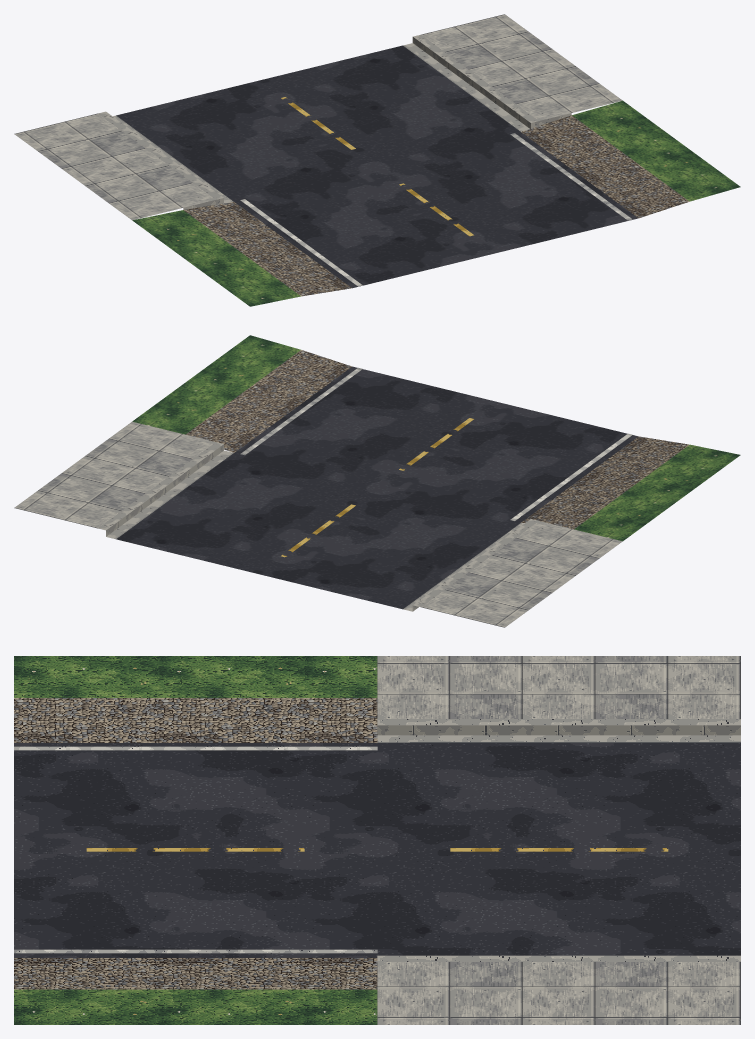
File: RD_Transition_UrbanToRural_10m.obj
3 views of the same model, one above another, from view 1: azimuth 30°, elevation 25°; view 2: azimuth 150°, elevation 25°; view 3: azimuth 270°, elevation 25° (orthographic). The views are drawn at different scales.
Visible parts, largest first — view 1: RD_Transition_UrbanToRural_10m_Mesh_M_Road_Asphalt, RD_Transition_UrbanToRural_10m_Mesh_M_Road_SidewalkConcrete, RD_Transition_UrbanToRural_10m_Mesh_M_Road_Gravel, RD_Transition_UrbanToRural_10m_Mesh_M_Grnd_GrassOvergrown, RD_Transition_UrbanToRural_10m_Mesh_M_Road_CurbConcrete, RD_Transition_UrbanToRural_10m_Mesh_M_Road_MarkingWhite, RD_Transition_UrbanToRural_10m_Mesh_M_Road_MarkingYellow; view 2: RD_Transition_UrbanToRural_10m_Mesh_M_Road_Asphalt, RD_Transition_UrbanToRural_10m_Mesh_M_Road_SidewalkConcrete, RD_Transition_UrbanToRural_10m_Mesh_M_Grnd_GrassOvergrown, RD_Transition_UrbanToRural_10m_Mesh_M_Road_Gravel, RD_Transition_UrbanToRural_10m_Mesh_M_Road_CurbConcrete, RD_Transition_UrbanToRural_10m_Mesh_M_Road_MarkingWhite, RD_Transition_UrbanToRural_10m_Mesh_M_Road_MarkingYellow; view 3: RD_Transition_UrbanToRural_10m_Mesh_M_Road_Asphalt, RD_Transition_UrbanToRural_10m_Mesh_M_Road_SidewalkConcrete, RD_Transition_UrbanToRural_10m_Mesh_M_Grnd_GrassOvergrown, RD_Transition_UrbanToRural_10m_Mesh_M_Road_Gravel, RD_Transition_UrbanToRural_10m_Mesh_M_Road_CurbConcrete, RD_Transition_UrbanToRural_10m_Mesh_M_Road_MarkingWhite, RD_Transition_UrbanToRural_10m_Mesh_M_Road_MarkingYellow.
Part boxes in pixels (x1,y1,x2,y2): RD_Transition_UrbanToRural_10m_Mesh_M_Road_Asphalt: (116, 45, 638, 288); RD_Transition_UrbanToRural_10m_Mesh_M_Road_SidewalkConcrete: (14, 14, 622, 220); RD_Transition_UrbanToRural_10m_Mesh_M_Road_Gravel: (183, 115, 689, 296); RD_Transition_UrbanToRural_10m_Mesh_M_Grnd_GrassOvergrown: (132, 100, 740, 306); RD_Transition_UrbanToRural_10m_Mesh_M_Road_CurbConcrete: (98, 34, 571, 209); RD_Transition_UrbanToRural_10m_Mesh_M_Road_MarkingWhite: (240, 133, 632, 286); RD_Transition_UrbanToRural_10m_Mesh_M_Road_MarkingYellow: (281, 97, 473, 236); RD_Transition_UrbanToRural_10m_Mesh_M_Road_Asphalt: (116, 366, 638, 609); RD_Transition_UrbanToRural_10m_Mesh_M_Road_SidewalkConcrete: (14, 421, 622, 627); RD_Transition_UrbanToRural_10m_Mesh_M_Grnd_GrassOvergrown: (132, 335, 740, 541); RD_Transition_UrbanToRural_10m_Mesh_M_Road_Gravel: (186, 350, 689, 529); RD_Transition_UrbanToRural_10m_Mesh_M_Road_CurbConcrete: (98, 442, 538, 611); RD_Transition_UrbanToRural_10m_Mesh_M_Road_MarkingWhite: (240, 367, 632, 520); RD_Transition_UrbanToRural_10m_Mesh_M_Road_MarkingYellow: (281, 418, 473, 557); RD_Transition_UrbanToRural_10m_Mesh_M_Road_Asphalt: (14, 743, 740, 957); RD_Transition_UrbanToRural_10m_Mesh_M_Road_SidewalkConcrete: (377, 656, 740, 1024); RD_Transition_UrbanToRural_10m_Mesh_M_Grnd_GrassOvergrown: (14, 656, 377, 1024); RD_Transition_UrbanToRural_10m_Mesh_M_Road_Gravel: (14, 698, 377, 989); RD_Transition_UrbanToRural_10m_Mesh_M_Road_CurbConcrete: (377, 719, 740, 961); RD_Transition_UrbanToRural_10m_Mesh_M_Road_MarkingWhite: (14, 746, 377, 953); RD_Transition_UrbanToRural_10m_Mesh_M_Road_MarkingYellow: (86, 848, 668, 851).
Bounding box in the file's own units: 12 × 0.15 × 10.
7 materials, 7 textured.
